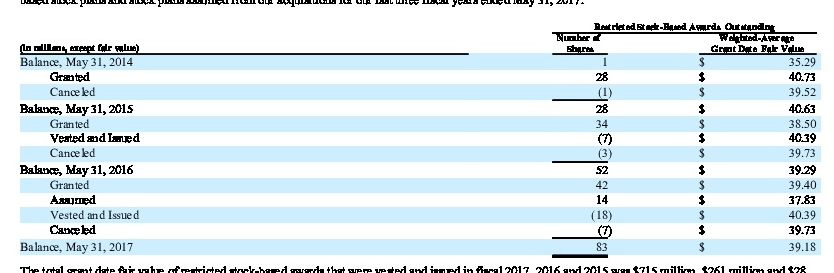table: (0, 0, 834, 273)
